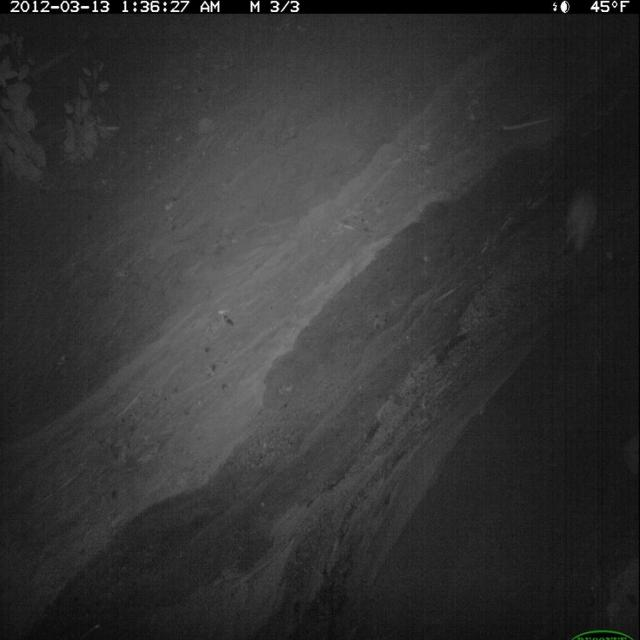opossum: (559, 180, 603, 268)
